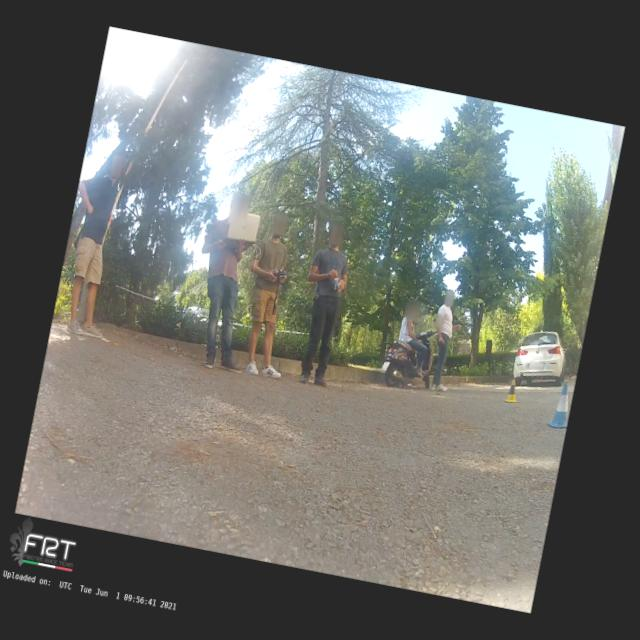blue_cone: (546, 382, 574, 430)
yellow_cone: (503, 378, 522, 404)
